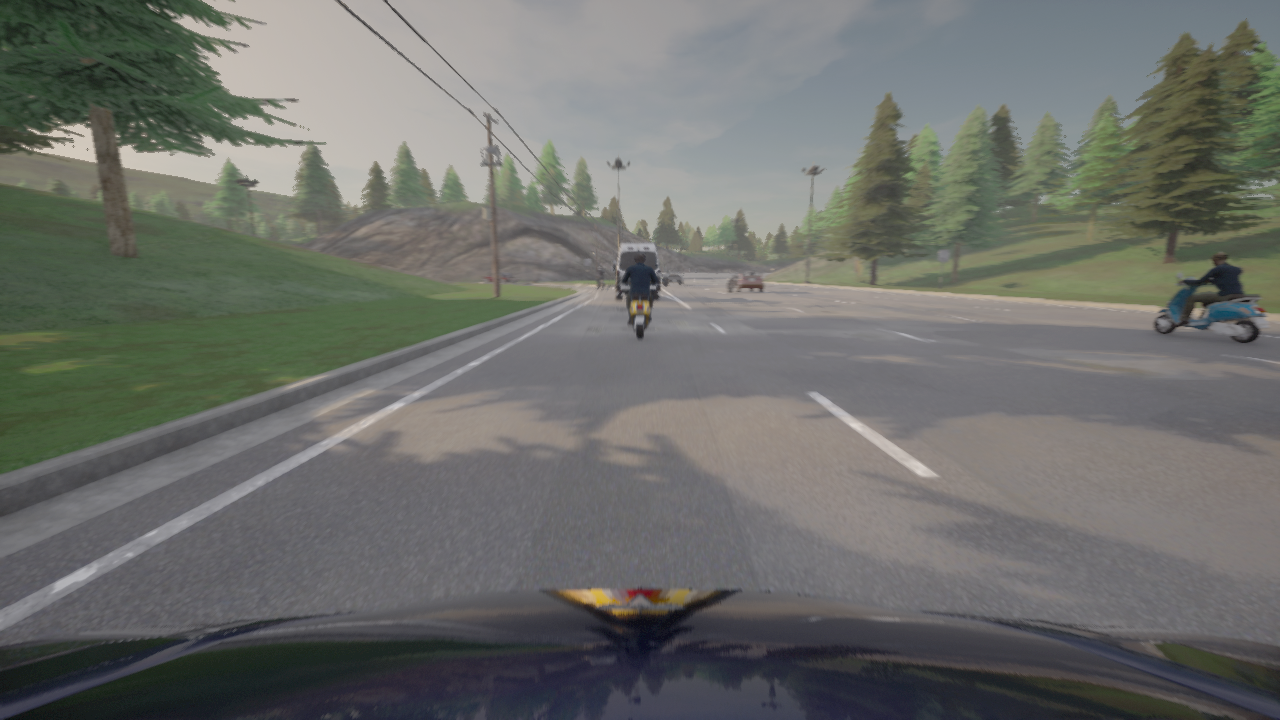cyclist: (0, 588, 1279, 719), (1153, 272, 1269, 343), (619, 272, 660, 338), (612, 242, 659, 299), (728, 267, 764, 292), (482, 273, 519, 283), (662, 270, 682, 284), (599, 280, 603, 286)
